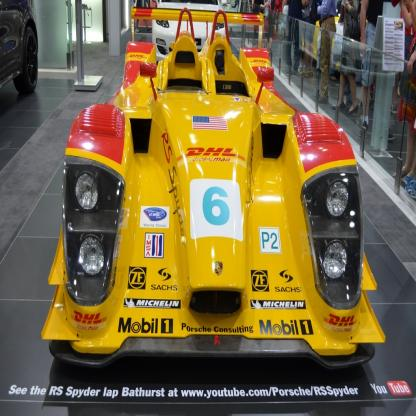Car: (43, 9, 387, 371), (152, 1, 228, 84), (1, 1, 39, 95)
